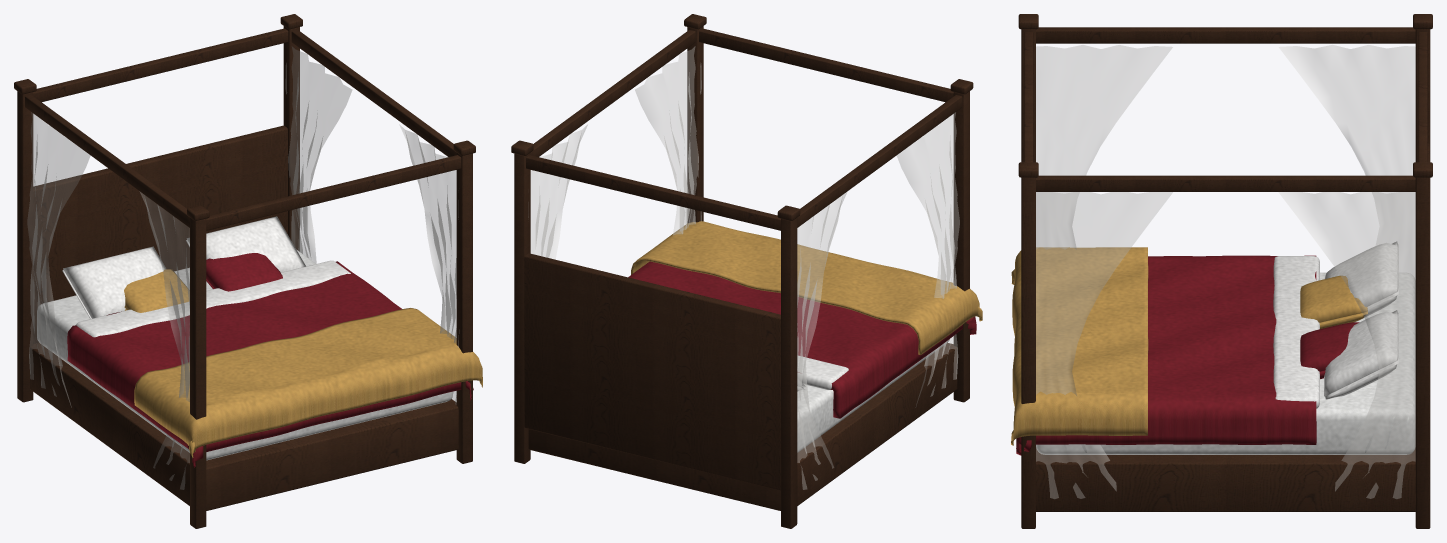
File: h_bed2.glb
3 views of the same model, side by side, from view 1: azimuth 30°, elevation 25°; view 2: azimuth 150°, elevation 25°; view 3: azimuth 270°, elevation 25° (orthographic). The views are drawn at different scales.
Visible parts, largest first — view 1: runner, head, frame, duvet, curtain.002, curtain, mattress, curtain.001, post.002, curtain.003, post.003, post.001 (+10 smaller); view 2: head, runner, frame, duvet, curtain.003, curtain.001, curtain.002, post.002, post.003, post, railx, railx.001 (+6 smaller); view 3: duvet, runner, frame, curtain, curtain.001, curtain.002, curtain.003, mattress, raily.001, raily, post, fold (+9 smaller).
Part boxes in pixels (x1=…): runner: x1=134, y1=308, x2=482, y2=457; head: x1=33, y1=125, x2=287, y2=343; frame: x1=30, y1=343, x2=458, y2=510; duvet: x1=67, y1=261, x2=473, y2=467; curtain.002: x1=27, y1=112, x2=90, y2=407; curtain: x1=285, y1=47, x2=351, y2=263; mattress: x1=37, y1=250, x2=453, y2=460; curtain.001: x1=399, y1=124, x2=458, y2=404; post.002: x1=17, y1=91, x2=33, y2=402; curtain.003: x1=140, y1=192, x2=189, y2=489; post.003: x1=190, y1=217, x2=206, y2=528; post.001: x1=456, y1=153, x2=472, y2=463; head: x1=524, y1=253, x2=780, y2=490; runner: x1=631, y1=221, x2=982, y2=354; frame: x1=528, y1=343, x2=957, y2=510; duvet: x1=628, y1=261, x2=976, y2=418; curtain.003: x1=897, y1=112, x2=959, y2=407; curtain.001: x1=635, y1=46, x2=701, y2=235; curtain.002: x1=797, y1=191, x2=847, y2=489; post.002: x1=781, y1=218, x2=797, y2=528; post.003: x1=953, y1=91, x2=969, y2=402; post: x1=514, y1=153, x2=530, y2=463; railx: x1=526, y1=155, x2=780, y2=230; railx.001: x1=699, y1=28, x2=953, y2=102; duvet: x1=1016, y1=255, x2=1316, y2=455; runner: x1=1011, y1=247, x2=1148, y2=445; frame: x1=1036, y1=447, x2=1415, y2=511; curtain: x1=1278, y1=192, x2=1415, y2=498; curtain.001: x1=1036, y1=192, x2=1172, y2=498; curtain.002: x1=1279, y1=45, x2=1415, y2=278; curtain.003: x1=1036, y1=45, x2=1172, y2=249; mattress: x1=1036, y1=272, x2=1415, y2=454; raily.001: x1=1036, y1=27, x2=1415, y2=43; raily: x1=1036, y1=175, x2=1415, y2=191; post: x1=1415, y1=177, x2=1430, y2=528; fold: x1=1273, y1=256, x2=1319, y2=408.
Size of the model in its own units: 1.89 by 1.95 by 2.06.
6 materials, 5 textured.
